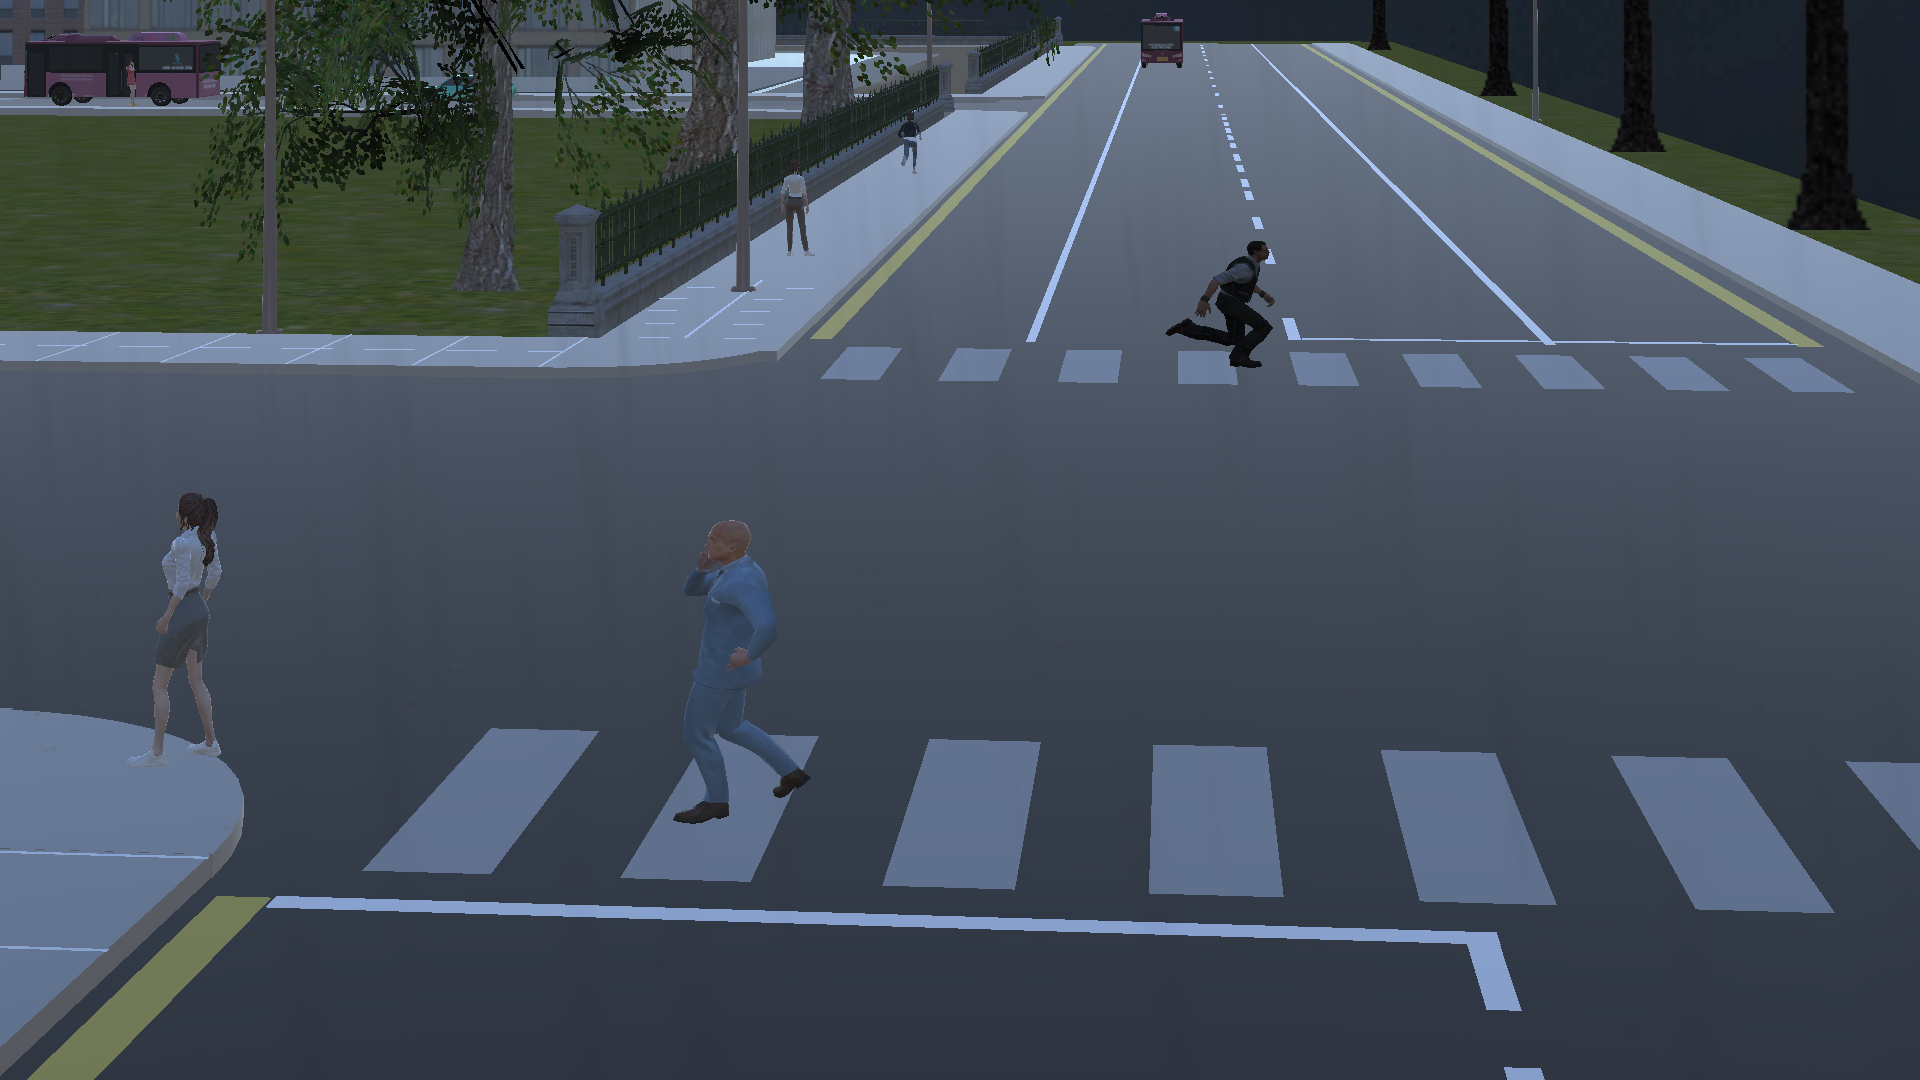pedestrian: (664, 503, 824, 854), (126, 469, 260, 774), (1164, 231, 1297, 398), (769, 165, 821, 263), (886, 99, 925, 174)
